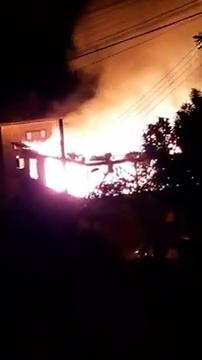fire: (68, 103, 160, 161), (49, 158, 97, 195)
